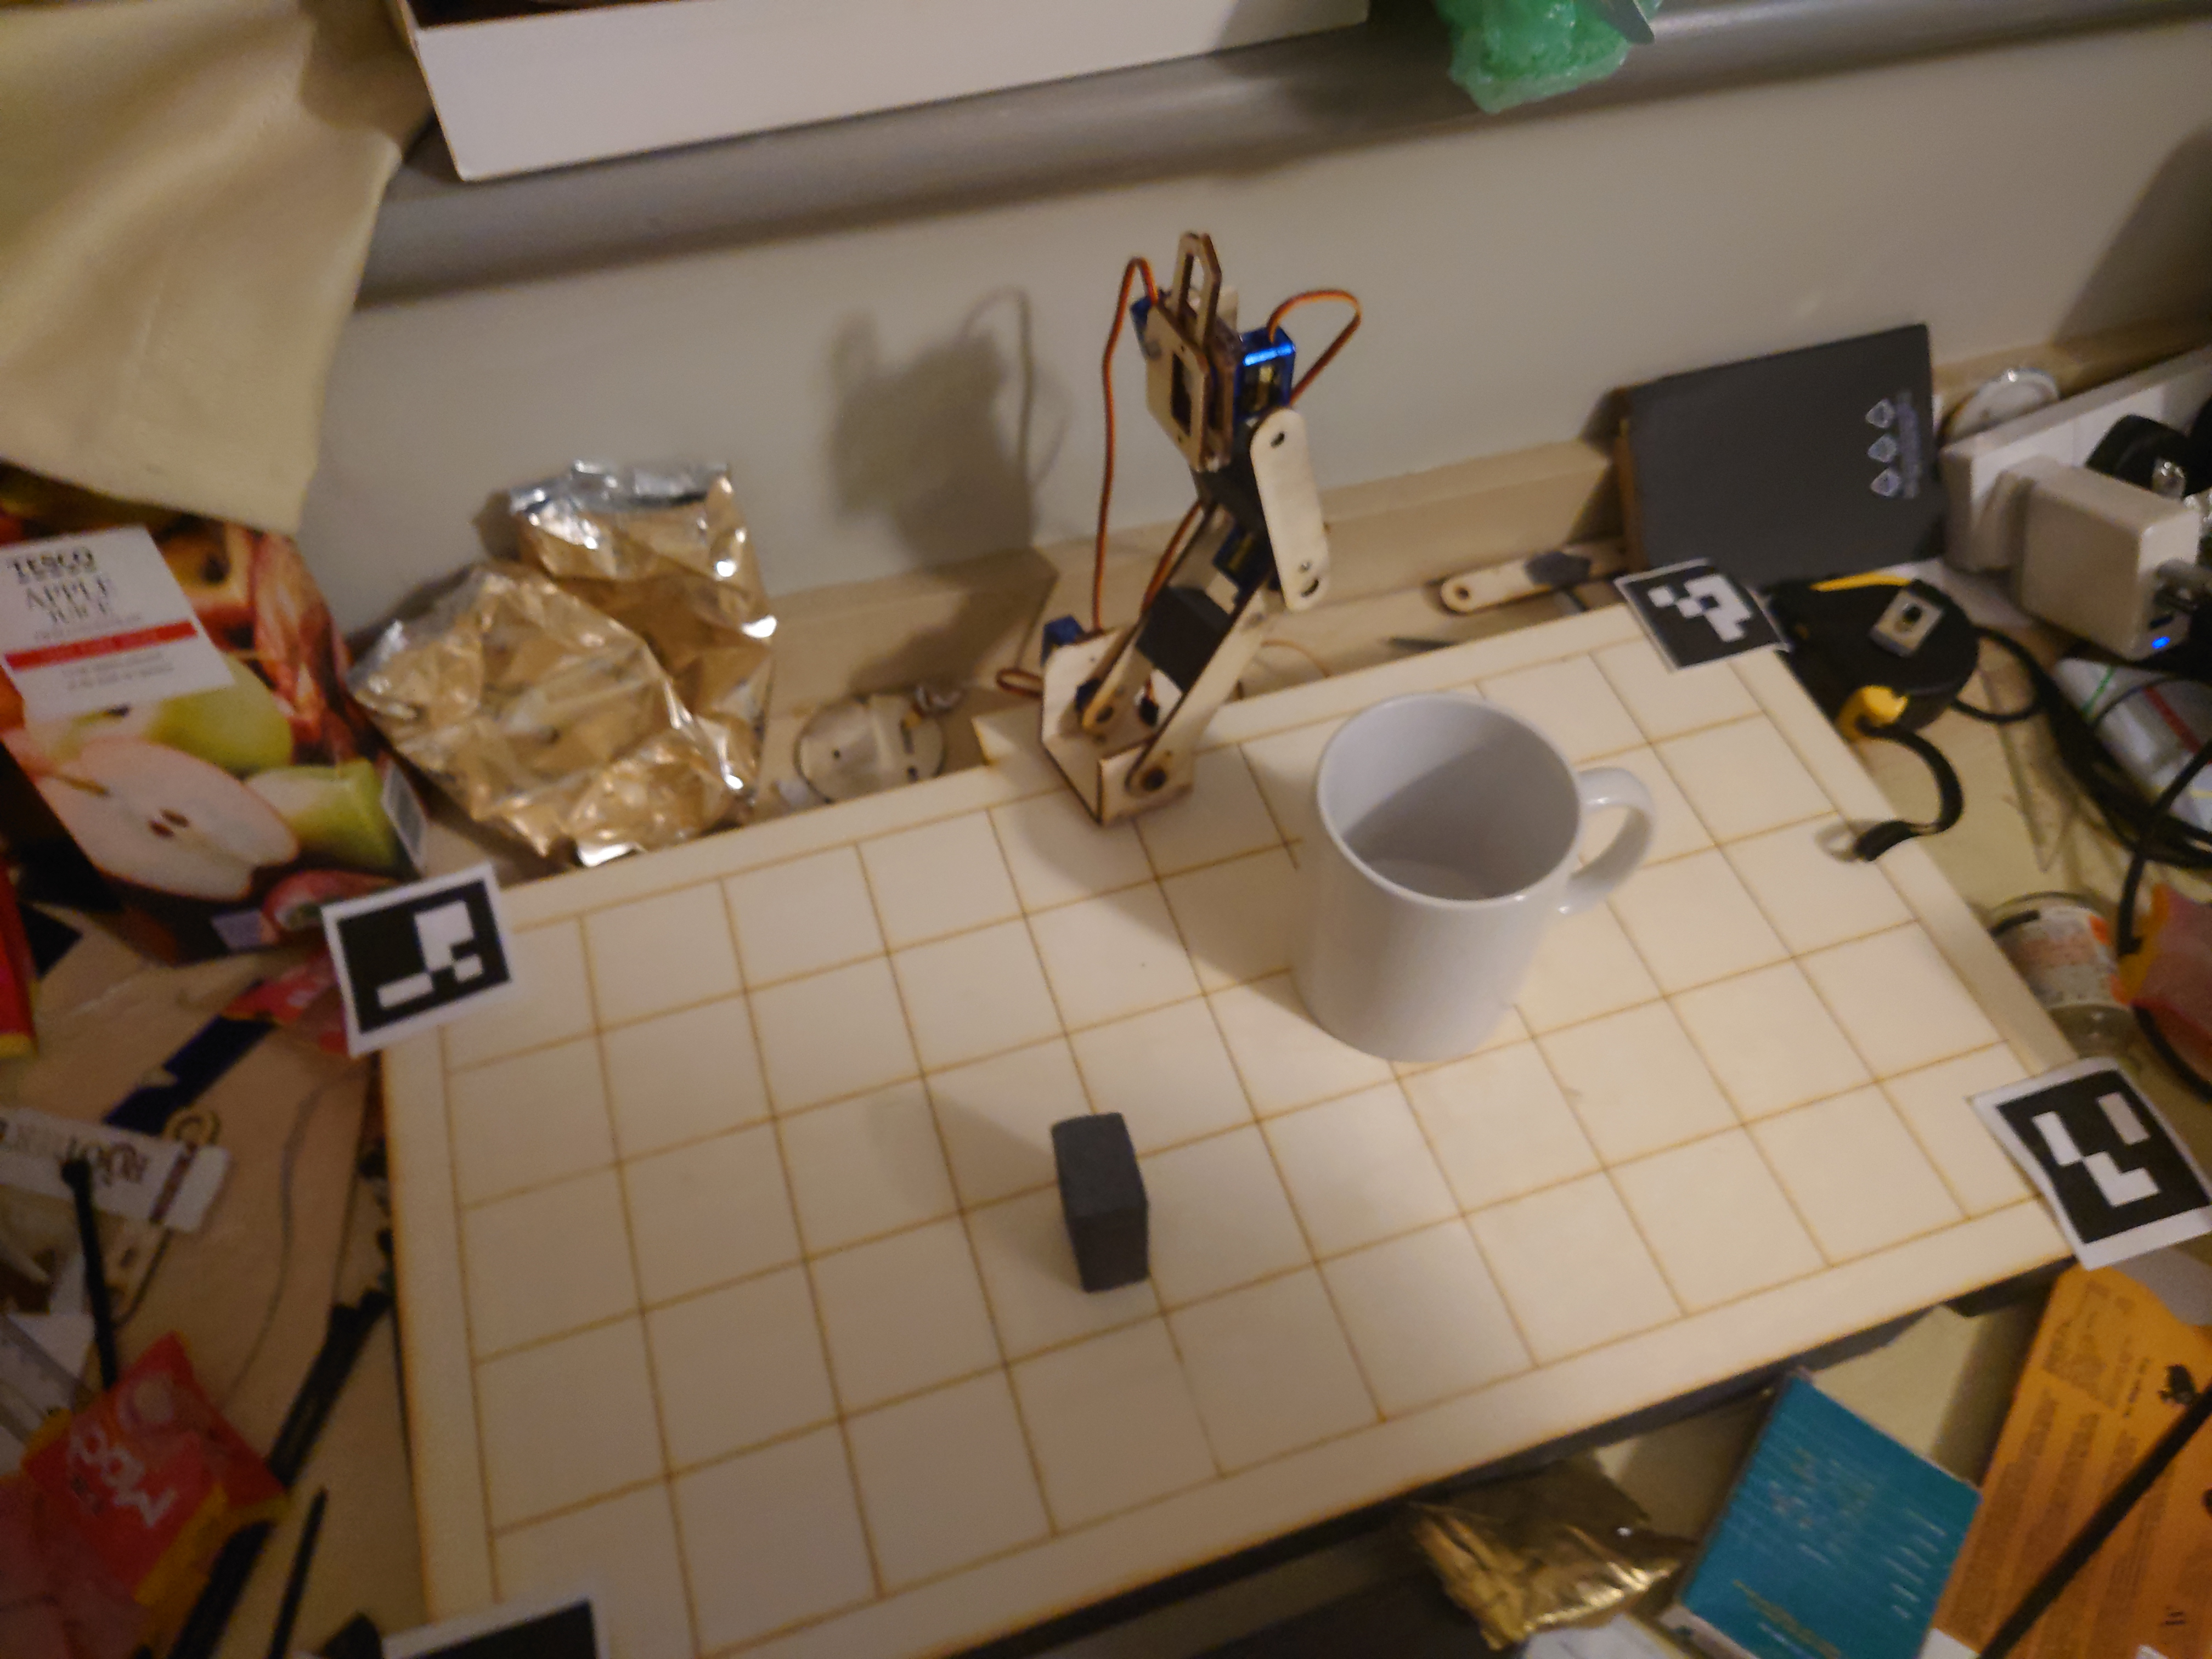cup: (1294, 687, 1656, 1073)
target: (1042, 1107, 1160, 1293)
